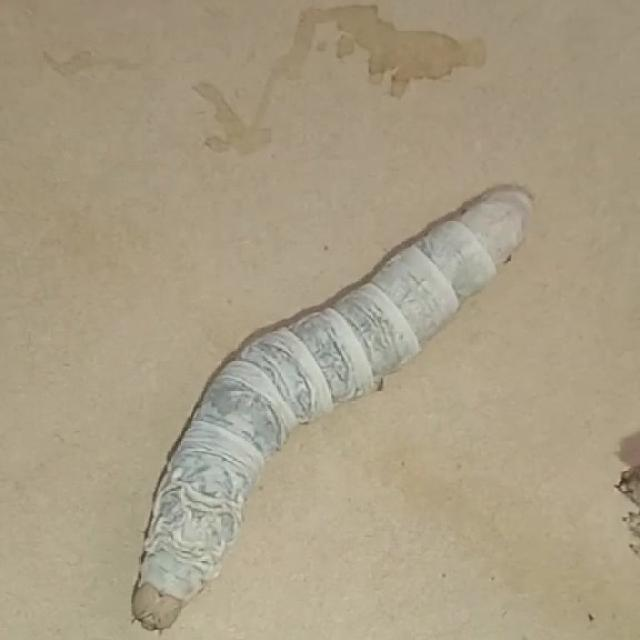Grasserie: (96, 167, 554, 632)
